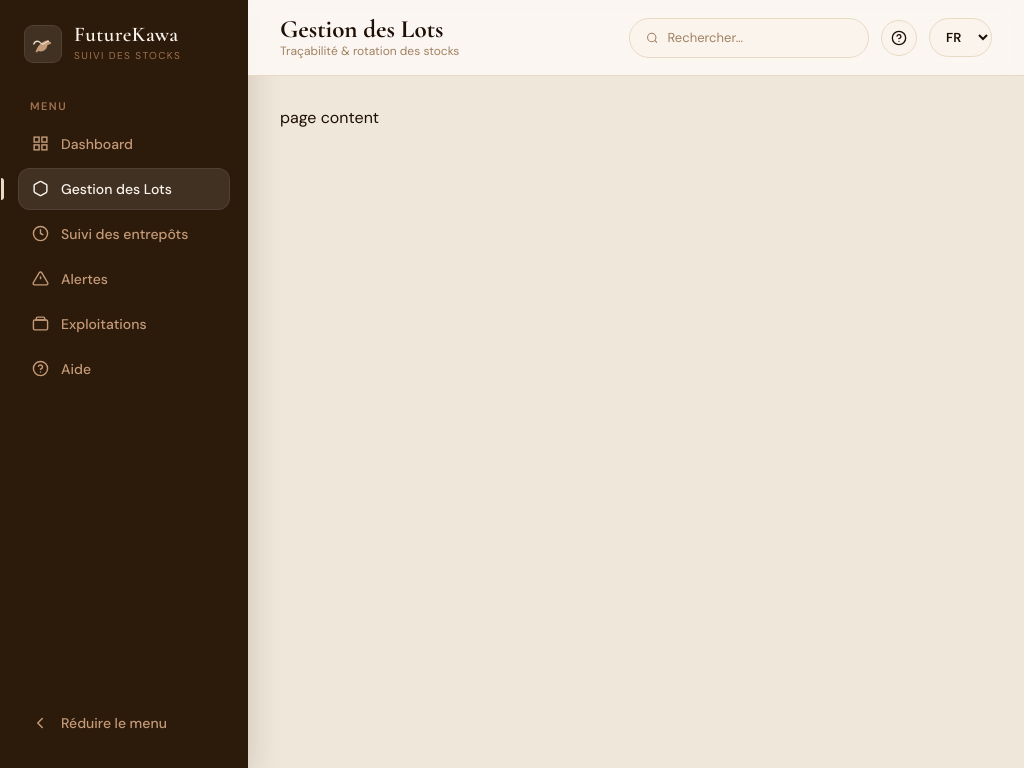
Test: ClientShell › opens the contextual help drawer for the current page
Click the button named "Ouvrir l'aide de cette page". click: (899, 38)
box: [881,20,917,56]
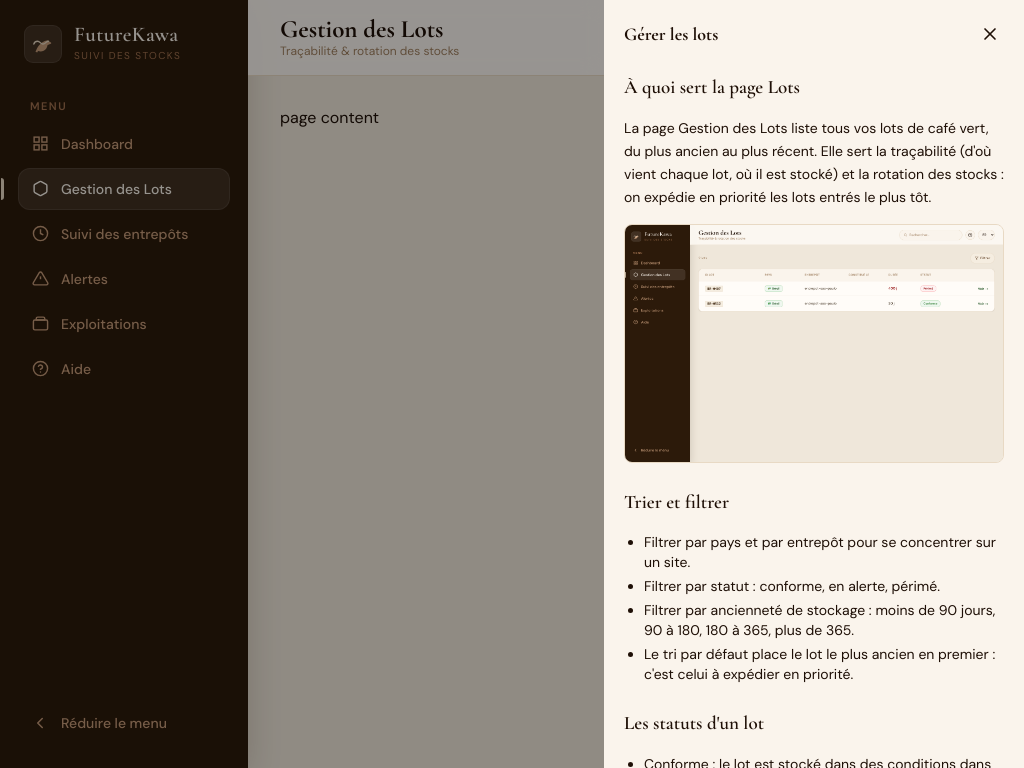
Expected: the dialog is shown, [604,0,1023,767]
Expected: the heading "Gérer les lots" is shown, [624,20,718,48]
